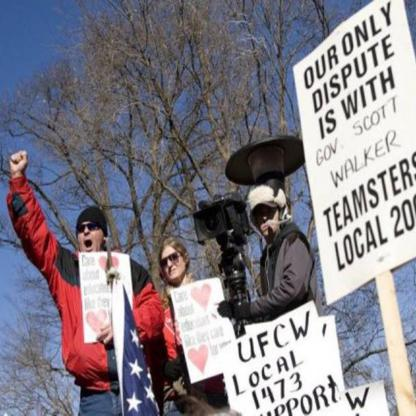face: (78, 210, 104, 258), (256, 194, 281, 239), (162, 246, 186, 283)
